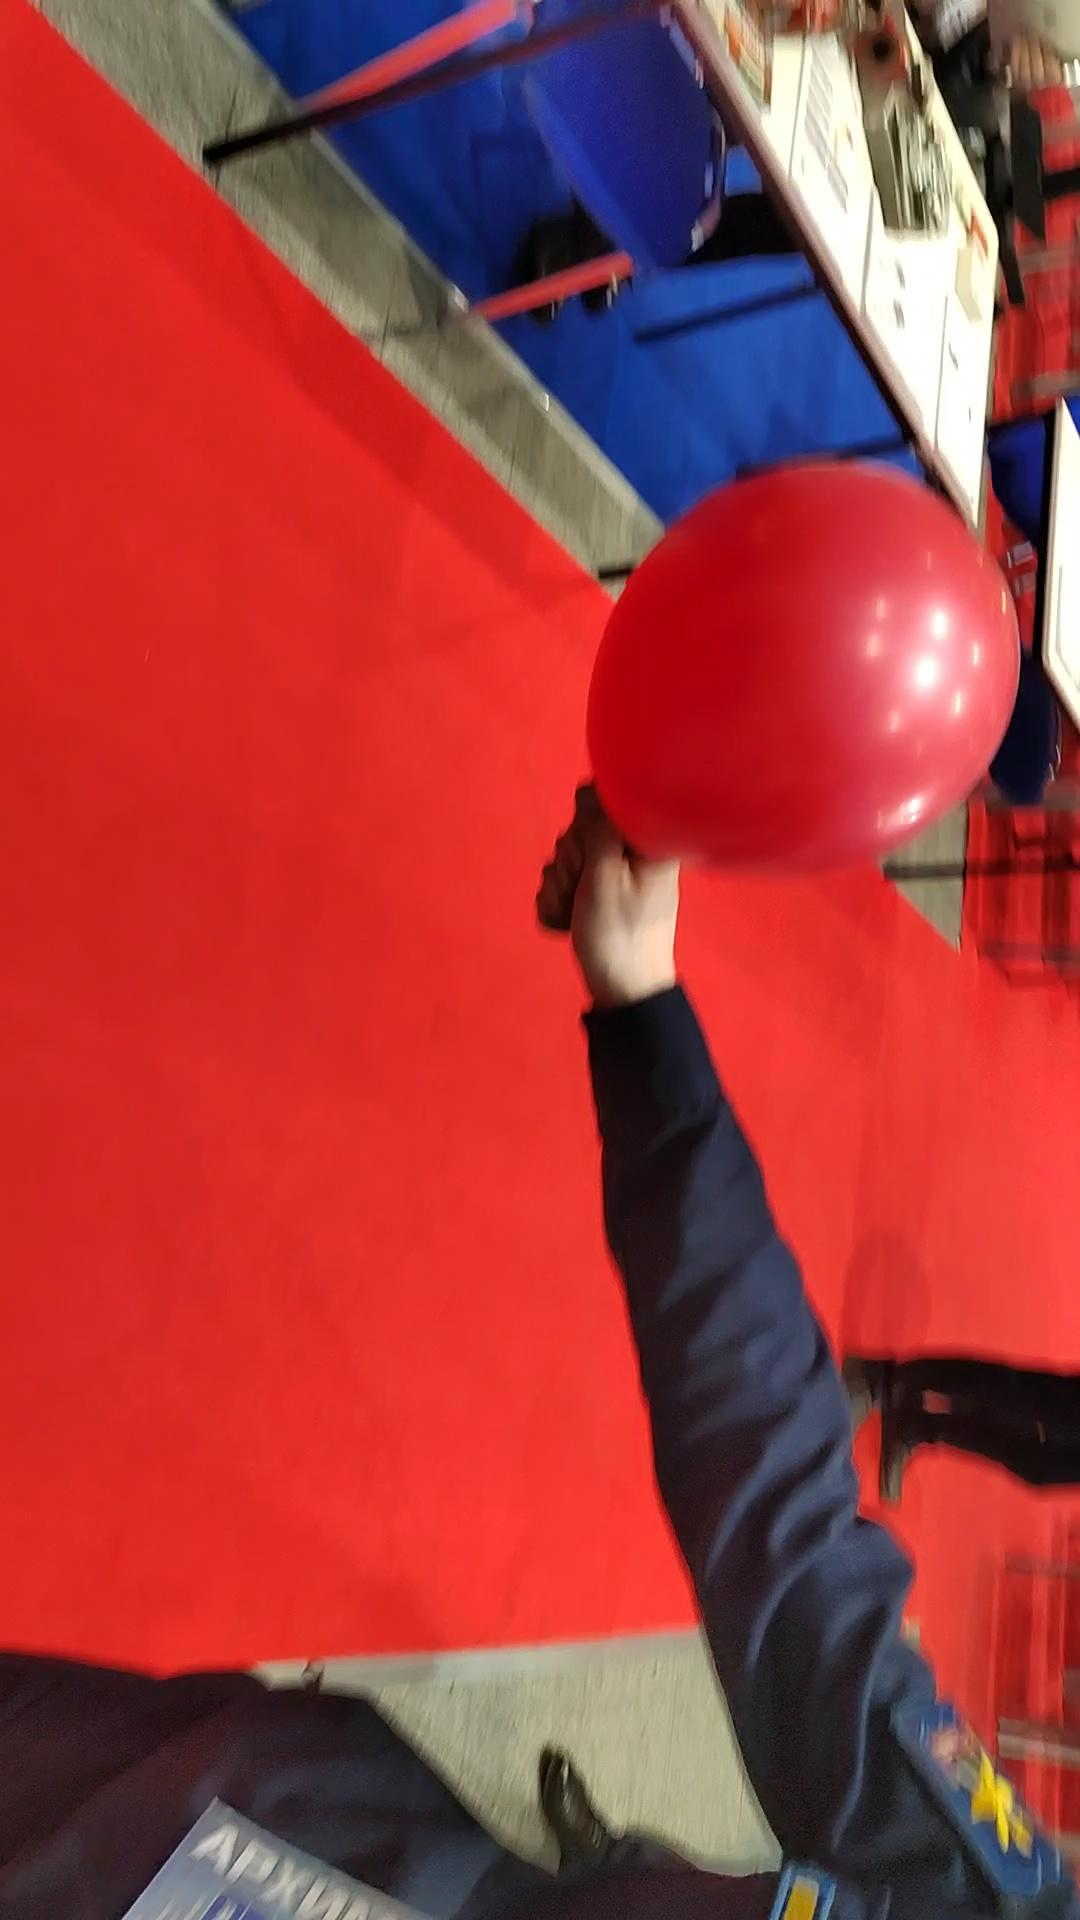red: (574, 440, 1033, 884)
